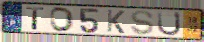5: (79, 7, 101, 34)
K: (106, 9, 127, 35)
O: (49, 6, 75, 33)
S: (129, 9, 155, 36)
T: (25, 7, 47, 31)
U: (156, 10, 182, 37)
